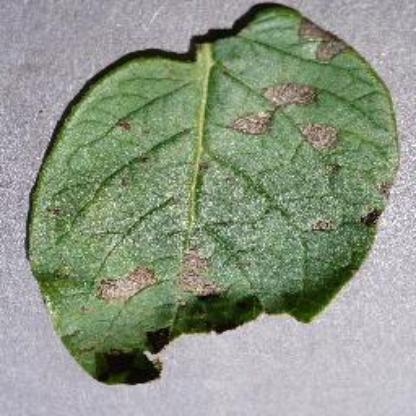Early-Blight: (29, 4, 403, 388)
